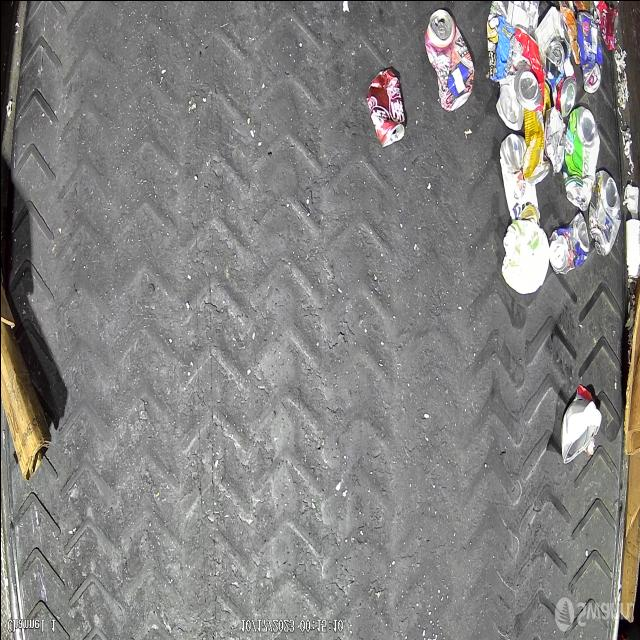can: (423, 7, 474, 111), (562, 104, 600, 210), (498, 132, 539, 226), (504, 25, 544, 111), (366, 65, 406, 147), (522, 80, 550, 185), (588, 169, 620, 255), (548, 210, 588, 274), (576, 11, 602, 92), (549, 56, 576, 118), (588, 0, 618, 51), (490, 0, 539, 31), (495, 78, 523, 130), (544, 38, 568, 76)
